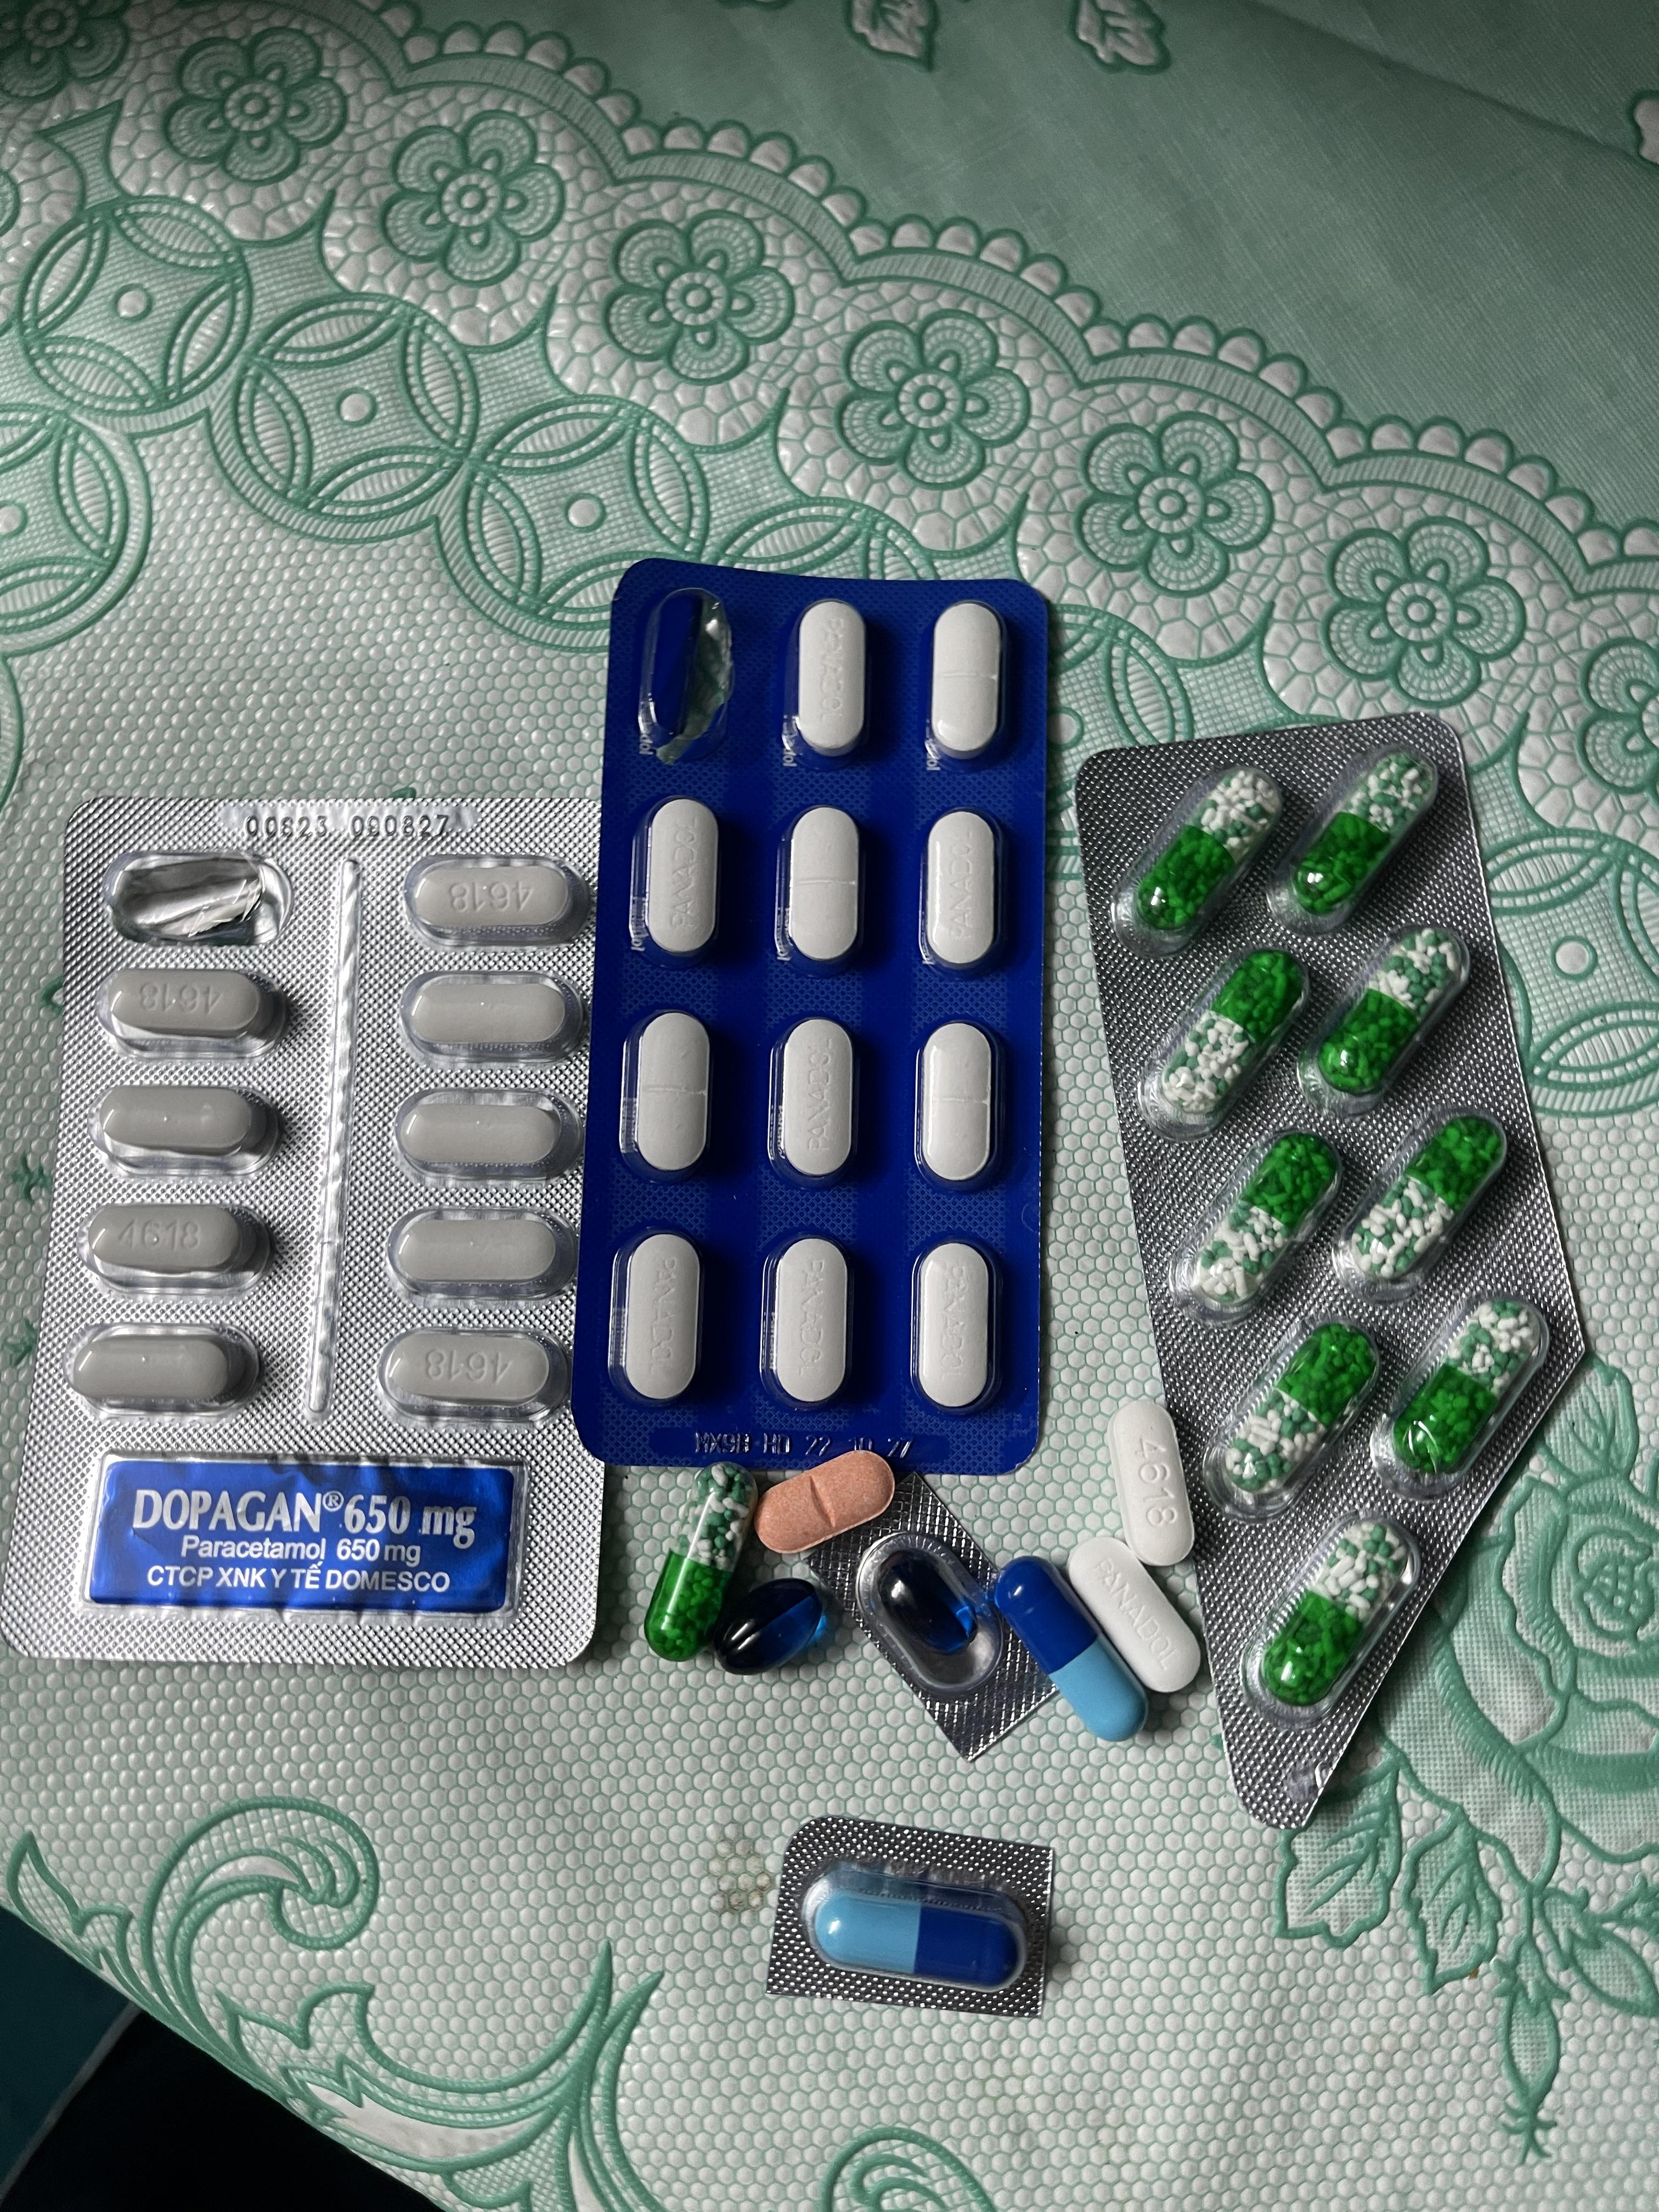Lincomyxin_500mg: (713, 1575, 831, 1677), (878, 1554, 979, 1655)
Loratadine_10mg: (756, 1453, 896, 1555)
Paracetamol_350mg: (1070, 1536, 1202, 1691), (911, 1240, 1004, 1416), (622, 1010, 718, 1177), (915, 1021, 1006, 1193), (767, 1238, 856, 1409), (770, 1019, 859, 1188), (617, 1233, 704, 1404), (777, 806, 868, 970), (922, 812, 1006, 979), (640, 801, 721, 960), (929, 604, 1007, 768), (793, 601, 870, 761)
Paracetamol_500mg: (63, 1320, 263, 1414), (376, 1325, 563, 1425), (87, 1083, 281, 1174), (399, 972, 584, 1066), (96, 970, 288, 1061), (78, 1204, 270, 1294), (403, 852, 584, 946), (392, 1087, 575, 1179), (387, 1209, 570, 1301), (1108, 1399, 1194, 1561)
Paracetamol_650mg: (1223, 1324, 1375, 1505), (1260, 1521, 1408, 1705), (1391, 1301, 1544, 1479), (1312, 930, 1467, 1101), (1157, 951, 1307, 1125), (1347, 1120, 1504, 1282), (1134, 768, 1286, 935), (1286, 752, 1434, 920), (1195, 1139, 1340, 1305), (645, 1461, 756, 1658)
pill: (802, 1860, 1037, 1994), (1000, 1552, 1147, 1742)
